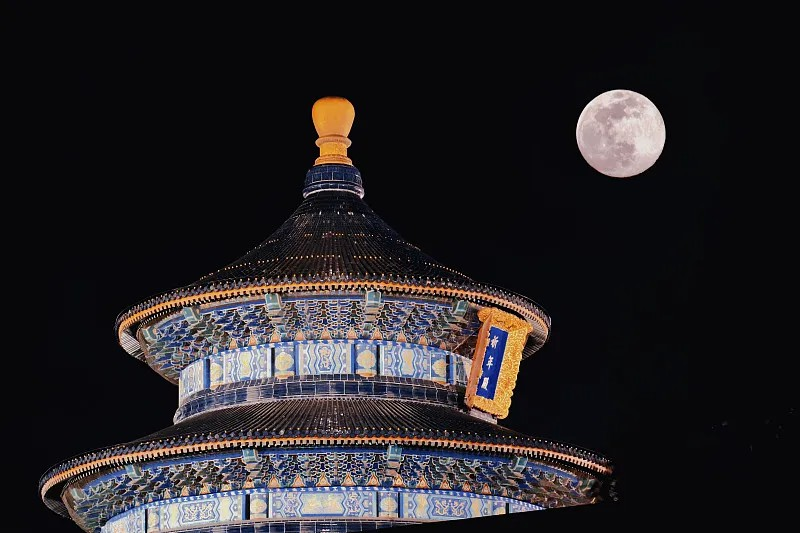Heaven: (38, 95, 615, 533)
